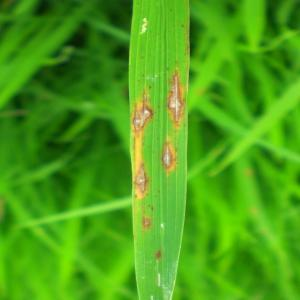Rice_Blast: (154, 62, 202, 127), (155, 130, 183, 175), (130, 94, 158, 139), (131, 160, 152, 200)
